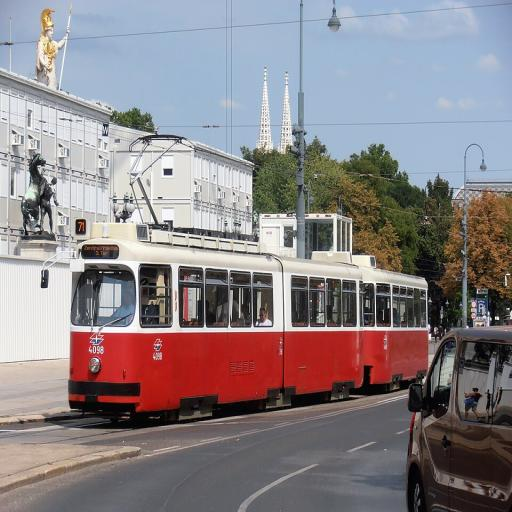E2-Tram: (66, 215, 435, 426)
